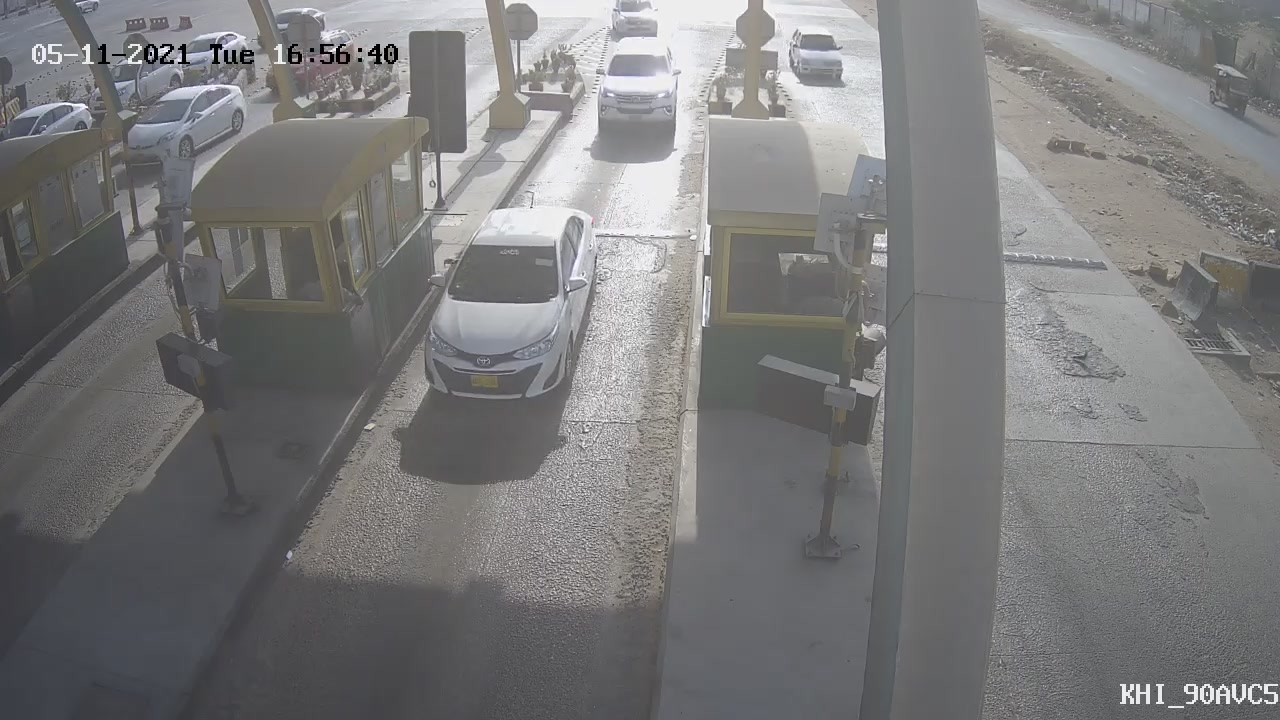F1: (395, 187, 621, 431), (578, 21, 692, 153)
